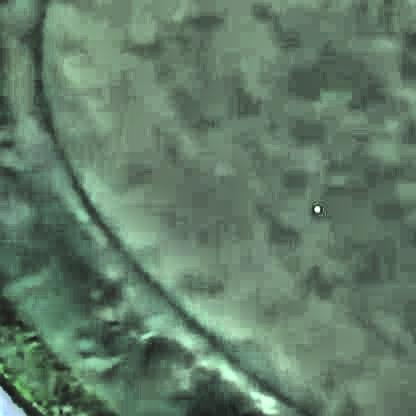golfball: (307, 202, 320, 213)
